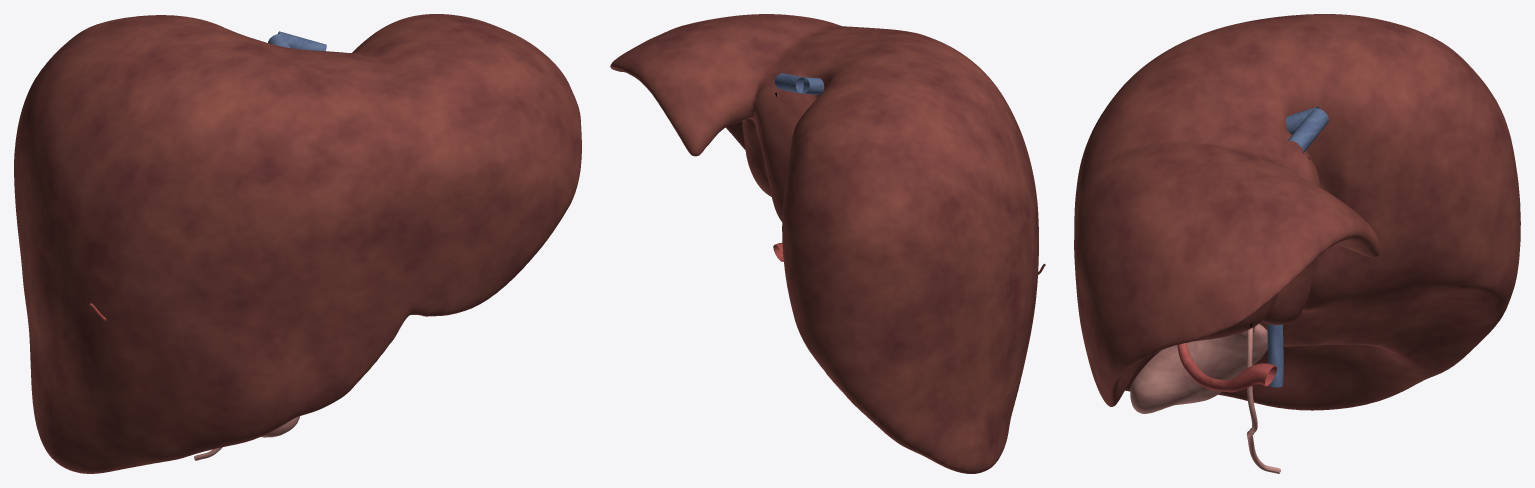
The model's file is liver.glb.
The picture shows the model from 3 angles, left to right: view 1: azimuth 30°, elevation 25°; view 2: azimuth 150°, elevation 25°; view 3: azimuth 270°, elevation 25°; orthographic projection. The views are drawn at different scales.
Parts seen in each view (by area): view 1: Liver.001, Hepatic veins.001; view 2: Liver.001, Hepatic veins.001; view 3: Liver.001, Gallbladder.001, Common hepatic artery.001, Hepatic veins.001, Bile duct.001, Hepatic portal vein.001.
Part boxes in pixels (x1,y1,x2,y2): Liver.001: [14, 14, 581, 473]; Hepatic veins.001: [268, 31, 326, 51]; Liver.001: [610, 14, 1038, 473]; Hepatic veins.001: [775, 73, 824, 94]; Liver.001: [1074, 14, 1520, 410]; Gallbladder.001: [1130, 324, 1267, 413]; Common hepatic artery.001: [1184, 360, 1276, 392]; Hepatic veins.001: [1286, 106, 1328, 153]; Bile duct.001: [1246, 326, 1280, 473]; Hepatic portal vein.001: [1267, 324, 1283, 387].
Size of the model in its own units: 0.206 by 0.1683 by 0.153.
Materials: 4 (4 with a texture image).
